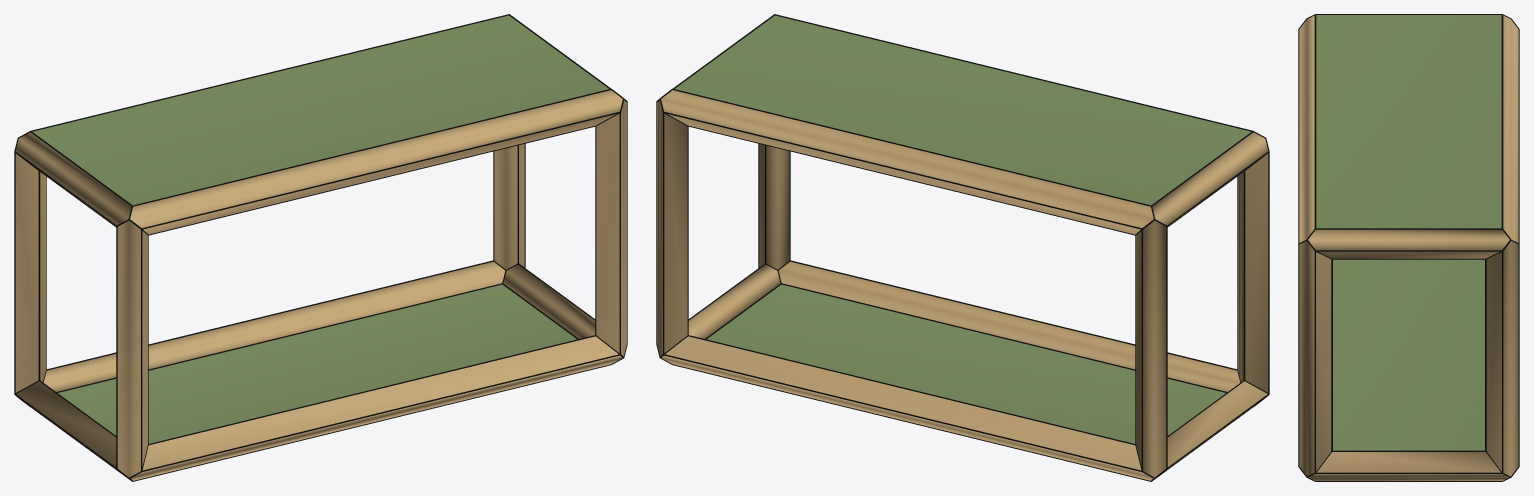
The model's file is banc-petit.glb.
3 views of the same model, side by side, from view 1: azimuth 30°, elevation 25°; view 2: azimuth 150°, elevation 25°; view 3: azimuth 270°, elevation 25° (orthographic). The views are drawn at different scales.
Visible parts, largest first — view 1: panneau-dessus_exterieur, panneau-dessous, arete-X2, arete-X0, arete-X1, arete-Z0, arete-Z1, arete-Z2, arete-Z3, arete-Y2, arete-wire-X0, arete-Y0 (+9 smaller); view 2: panneau-dessus_exterieur, panneau-dessous, arete-X3, arete-X1, arete-X0, arete-Z2, arete-Z3, arete-Z0, arete-Z1, arete-Y2, arete-Y0, arete-wire-X1 (+9 smaller); view 3: panneau-dessus_exterieur, panneau-dessous, arete-Z1, arete-Z3, arete-Y3, arete-Y1, arete-X2, arete-X3, arete-wire-Z1, arete-wire-Z3, arete-wire-Y3, panneau-wire-dessus_exterieur (+4 smaller).
Part boxes in pixels (left/top/right/bottom): panneau-dessus_exterieur: left=32, top=15, right=608, bottom=205; panneau-dessous: left=58, top=284, right=576, bottom=443; arete-X2: left=130, top=90, right=622, bottom=234; arete-X0: left=130, top=336, right=622, bottom=480; arete-X1: left=43, top=261, right=505, bottom=391; arete-Z0: left=117, top=220, right=147, bottom=477; arete-Z1: left=596, top=100, right=626, bottom=356; arete-Z2: left=15, top=153, right=45, bottom=392; arete-Z3: left=494, top=144, right=524, bottom=269; arete-Y2: left=15, top=132, right=131, bottom=226; arete-wire-X0: left=129, top=335, right=624, bottom=481; arete-Y0: left=16, top=381, right=116, bottom=469; panneau-dessus_exterieur: left=675, top=15, right=1251, bottom=205; panneau-dessous: left=707, top=284, right=1225, bottom=443; arete-X3: left=661, top=90, right=1153, bottom=234; arete-X1: left=661, top=336, right=1153, bottom=480; arete-X0: left=778, top=261, right=1240, bottom=391; arete-Z2: left=1136, top=220, right=1166, bottom=477; arete-Z3: left=657, top=100, right=687, bottom=356; arete-Z0: left=1238, top=153, right=1268, bottom=392; arete-Z1: left=759, top=144, right=789, bottom=269; arete-Y2: left=1152, top=132, right=1268, bottom=226; arete-Y0: left=1167, top=381, right=1267, bottom=469; arete-wire-X1: left=659, top=335, right=1154, bottom=481; panneau-dessus_exterieur: left=1316, top=15, right=1501, bottom=228; panneau-dessous: left=1333, top=259, right=1484, bottom=450; arete-Z1: left=1299, top=241, right=1331, bottom=476; arete-Z3: left=1486, top=241, right=1518, bottom=476; arete-Y3: left=1308, top=229, right=1509, bottom=258; arete-Y1: left=1308, top=452, right=1509, bottom=480; arete-X2: left=1299, top=15, right=1314, bottom=242; arete-X3: left=1503, top=15, right=1518, bottom=242; arete-wire-Z1: left=1298, top=239, right=1332, bottom=473; arete-wire-Z3: left=1485, top=244, right=1519, bottom=473; arete-wire-Y3: left=1315, top=228, right=1510, bottom=259; panneau-wire-dessus_exterieur: left=1315, top=14, right=1502, bottom=227.
Size of the model in its own units: 0.9309 by 0.4809 by 0.3809.
